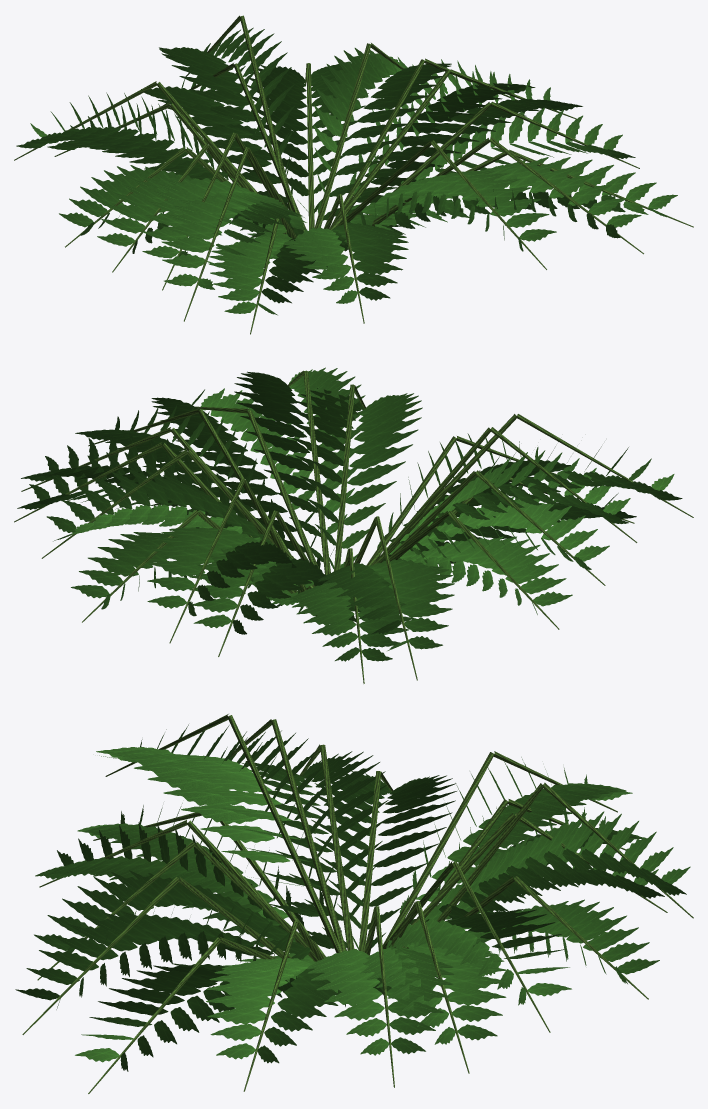
Rendered from windfall-fern-understory.glb.
3 renders of one model, top to bottom at view 1: azimuth 30°, elevation 25°; view 2: azimuth 150°, elevation 25°; view 3: azimuth 270°, elevation 25°, orthographic. The views are drawn at different scales.
Parts seen in each view (by area): view 1: fronds, stalk; view 2: fronds, stalk; view 3: fronds, stalk.
Part boxes in pixels (x1,y1,x2,y2): fronds: (16,27,677,315); stalk: (14,15,693,334); fronds: (17,367,682,661); stalk: (14,370,693,683); fronds: (15,723,690,1071); stalk: (22,714,693,1093).
Size of the model in its own units: 2.28 by 0.7356 by 2.17.
2 materials, 2 textured.
